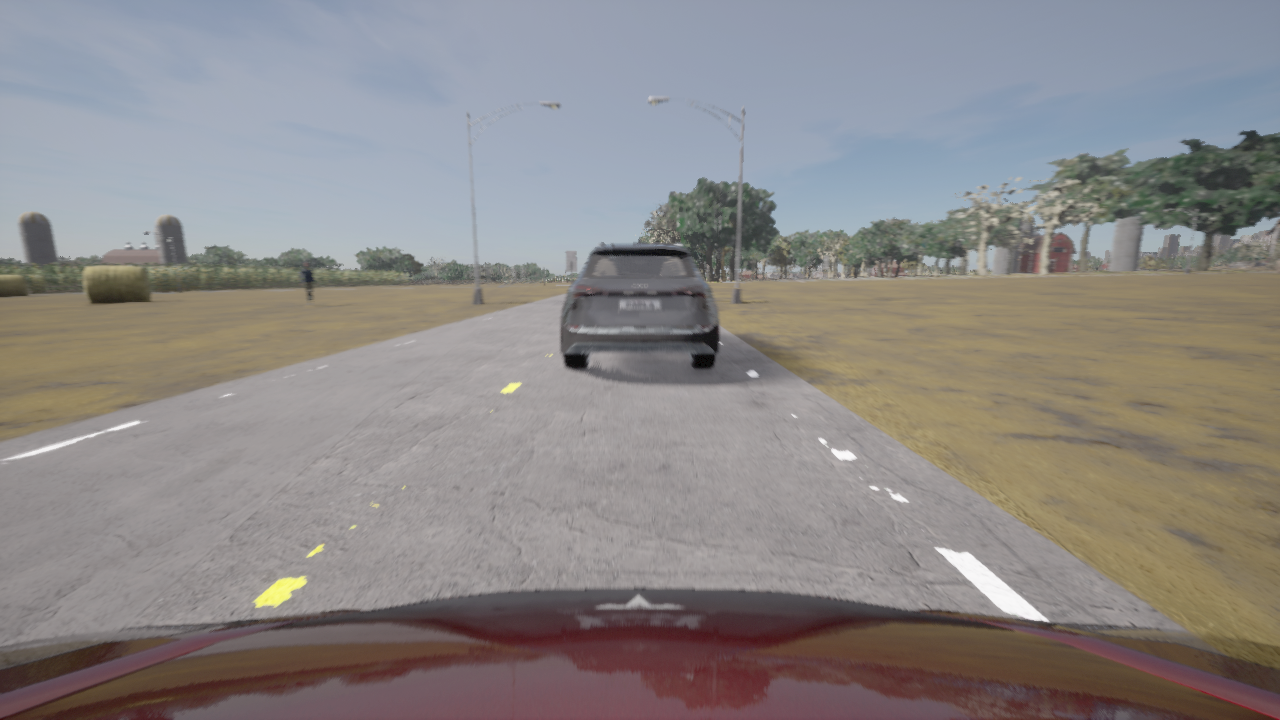cyclist: (0, 588, 1279, 719), (561, 239, 718, 368), (655, 242, 658, 243)
pedestrian: (299, 262, 317, 305)
